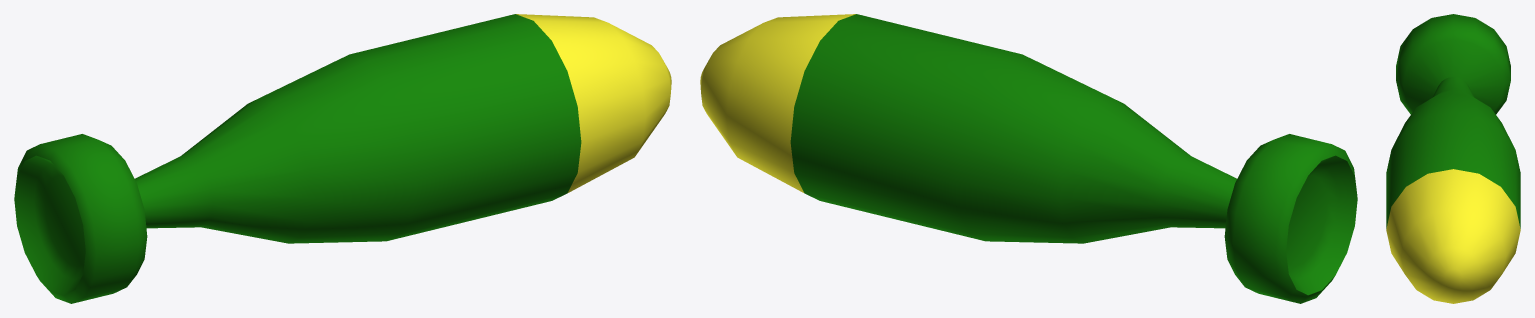
Rendered from BOmb.fbx.
3 renders of one model, left to right at view 1: azimuth 30°, elevation 25°; view 2: azimuth 150°, elevation 25°; view 3: azimuth 270°, elevation 25°, orthographic. The views are drawn at different scales.
Parts seen in each view (by area): view 1: BOMB; view 2: BOMB; view 3: BOMB.
Boxes of the visible parts, <box> form: BOMB: <box>14,14,671,303</box>; BOMB: <box>700,14,1357,303</box>; BOMB: <box>1386,14,1520,303</box>.
Size of the model in its own units: 37.95 by 10.21 by 10.21.
